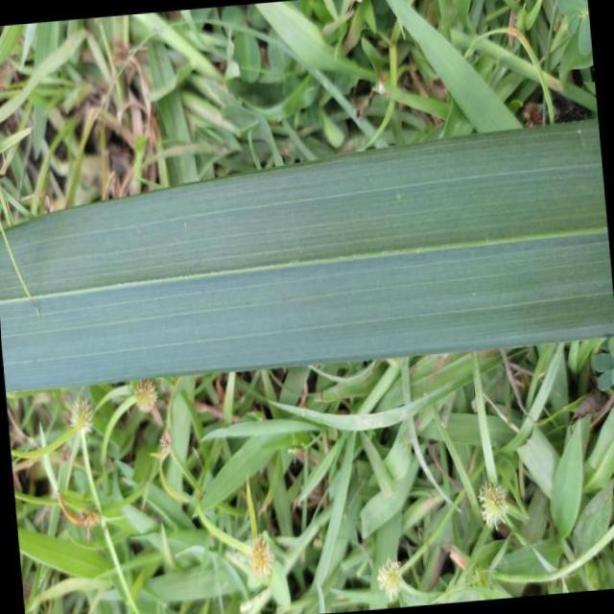Healthy: (0, 120, 614, 396)
